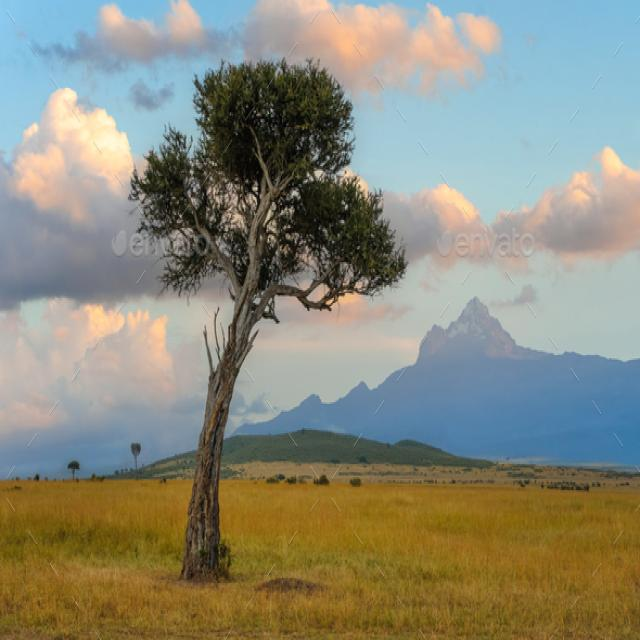Acacia: (121, 66, 402, 575)
